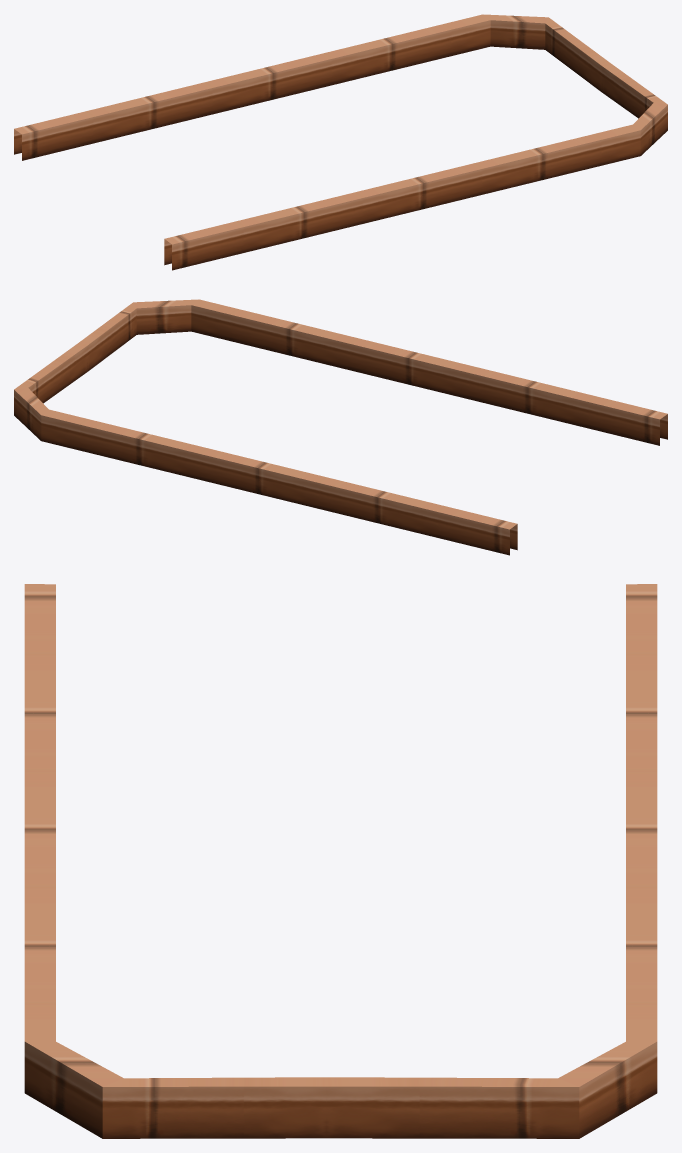
File: pave_side1.fbx
The picture shows the model from 3 angles, top to bottom: view 1: azimuth 30°, elevation 25°; view 2: azimuth 150°, elevation 25°; view 3: azimuth 270°, elevation 25°; orthographic projection. The views are drawn at different scales.
Parts seen in each view (by area): view 1: Cylinder.001, Cylinder; view 2: Cylinder, Cylinder.001; view 3: Cylinder.001, Cylinder.
Boxes of the visible parts, <box> form: Cylinder.001: <box>14,14,610,160</box>; Cylinder: <box>164,64,667,270</box>; Cylinder: <box>78,299,667,445</box>; Cylinder.001: <box>14,343,517,555</box>; Cylinder.001: <box>326,584,657,1138</box>; Cylinder: <box>24,584,326,1138</box>.
Bounding box in the file's own units: 1222 × 59.97 × 649.
